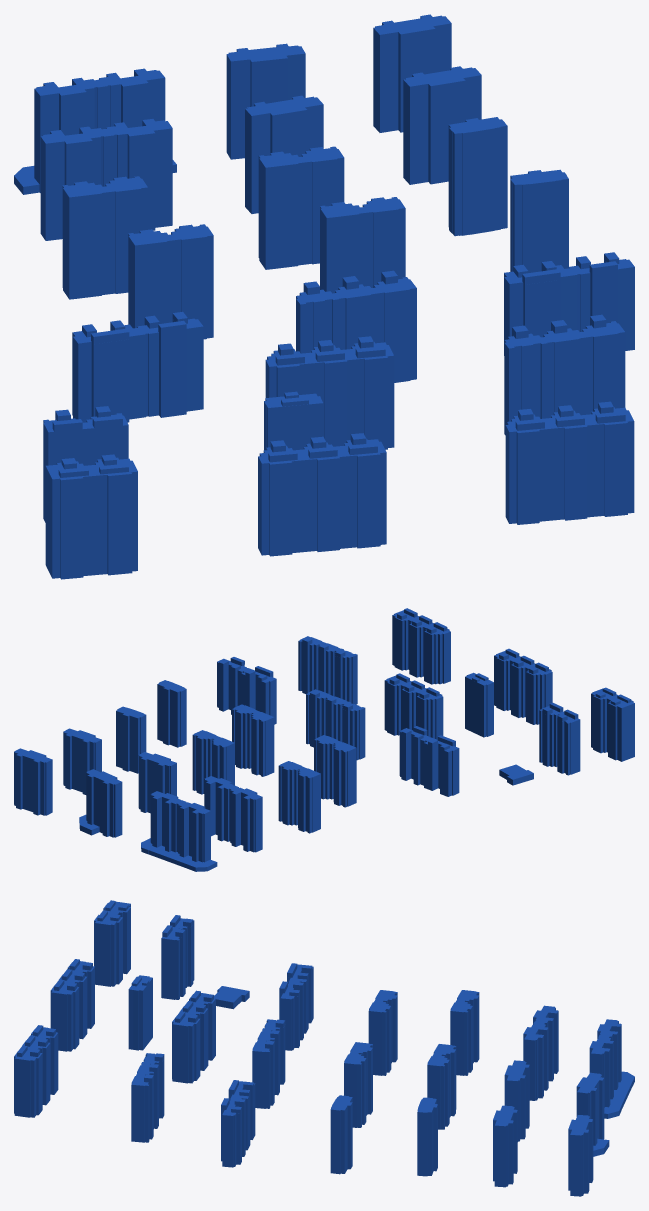
The model's file is jitilou-1.FBX.
3 views of the same model, one above another, from view 1: azimuth 30°, elevation 25°; view 2: azimuth 150°, elevation 25°; view 3: azimuth 270°, elevation 25° (orthographic). The views are drawn at different scales.
Visible parts, largest first — view 1: jitilou; view 2: jitilou; view 3: jitilou.
Boxes of the visible parts, <box> form: jitilou: <box>14,14,634,579</box>; jitilou: <box>14,608,634,871</box>; jitilou: <box>14,900,634,1196</box>.
Bounding box in the file's own units: 456 × 512 × 59.07.
